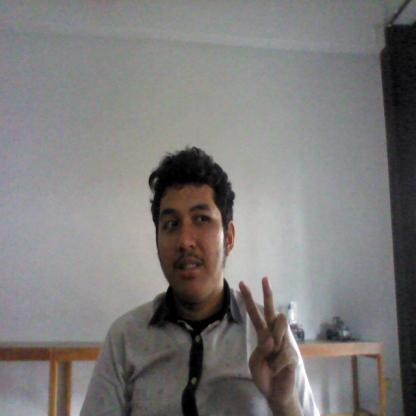V: (236, 274, 300, 412)
